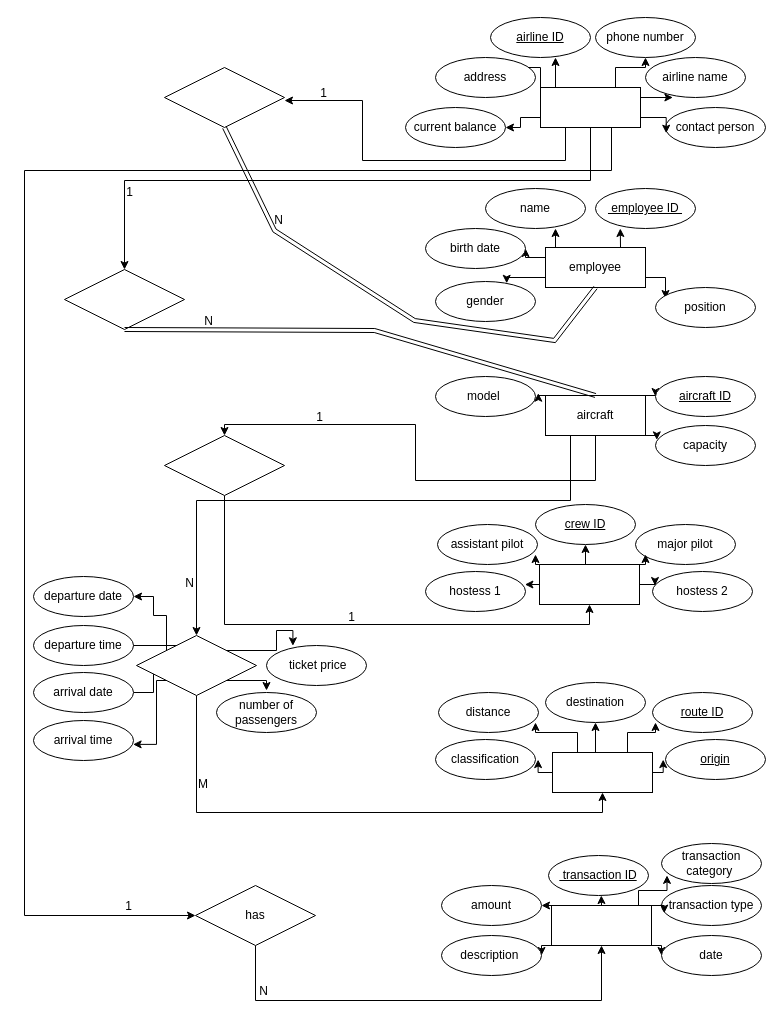
This 783x1026 diagram has some shape labels left out. The shapes that lost their labels are listed below. From the top down, each one's centre as x and y in pixels, then its label:
At pixel 224 97: "employs".
At pixel 590 107: "airline".
At pixel 124 299: "owns".
At pixel 224 465: "assigned".
At pixel 589 584: "crew".
At pixel 196 665: "operates".
At pixel 602 772: "route".
At pixel 601 925: "transaction".
